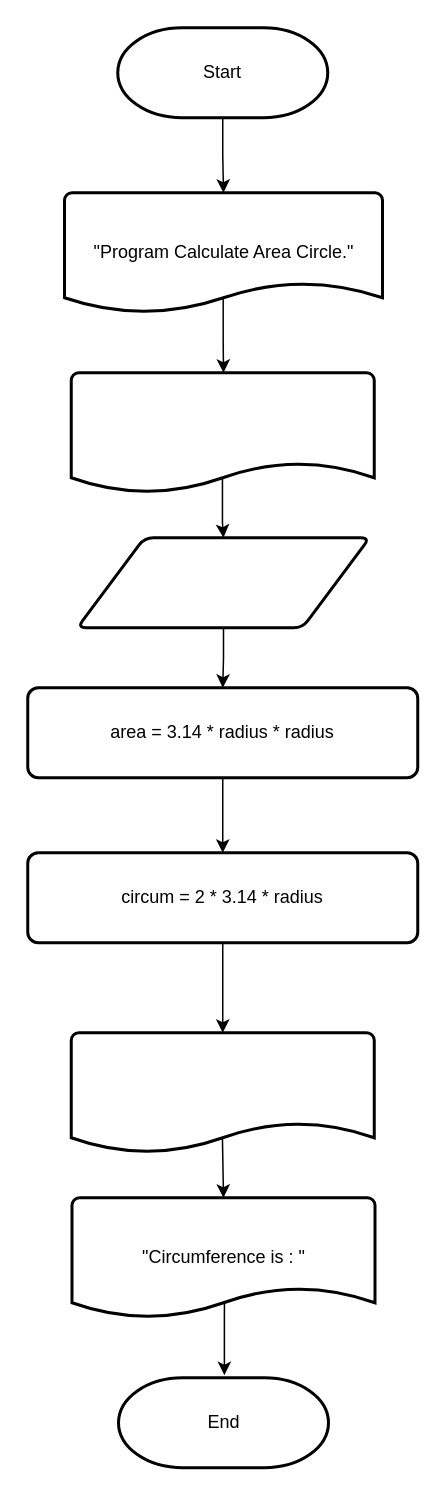
This 444x1494 diagram has some shape labels left out. The centre of each missing label's shape, as x and y in pixels:
"Area of circle with radius : ": [222,1092]
"Enter circle radius (float number) : ": [222,432]
INPUT : radius: [222,582]
